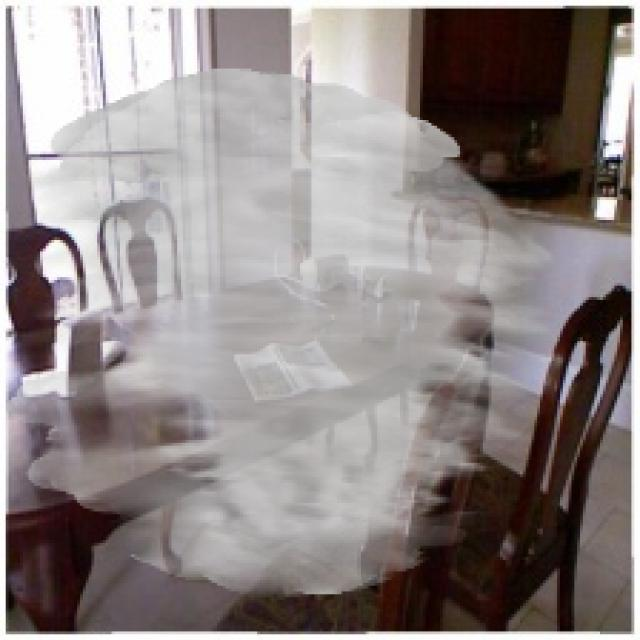smoke: (6, 69, 563, 597)
